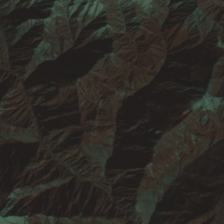landslides: (52, 63, 74, 84), (64, 54, 83, 76), (0, 101, 26, 117), (90, 73, 115, 86), (159, 85, 184, 97), (195, 19, 203, 42), (130, 150, 143, 162), (99, 68, 110, 80), (57, 64, 70, 74), (93, 44, 111, 51), (182, 53, 193, 64), (39, 184, 52, 192), (152, 51, 165, 59), (68, 67, 78, 77)
